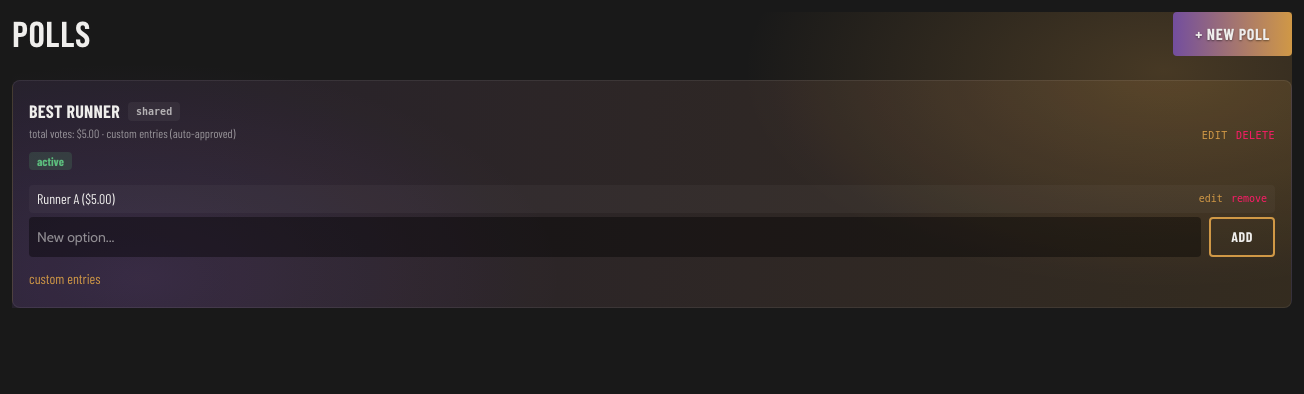
ModeratorPolls › loads custom entries for a poll
Click the button "custom entries".
click(65, 279)  # box x1=29 y1=269 x2=100 y2=289
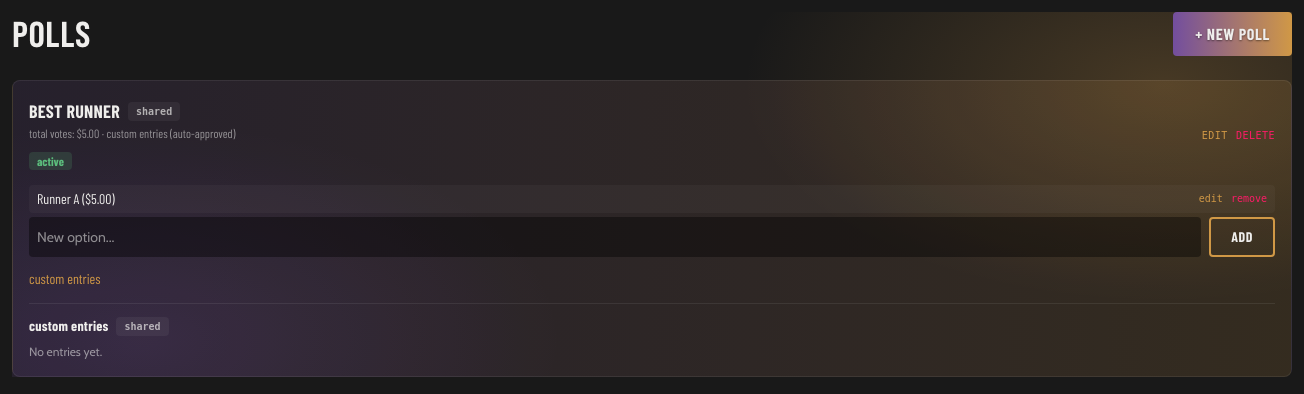
Expected: the text "No entries yet." is shown, x1=29 y1=344 x2=102 y2=359
